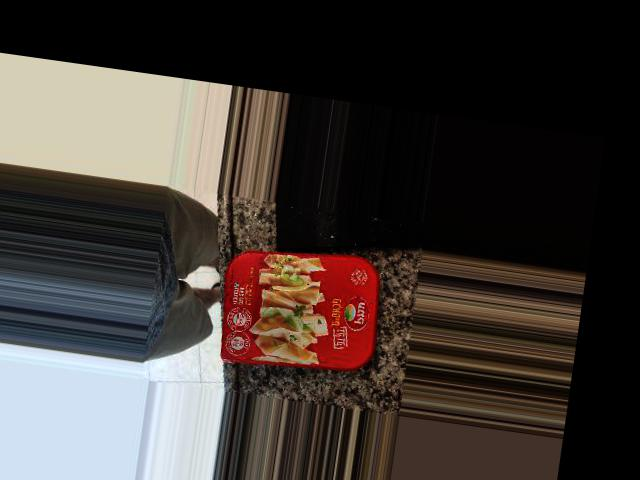cheese: (184, 216, 357, 362)
